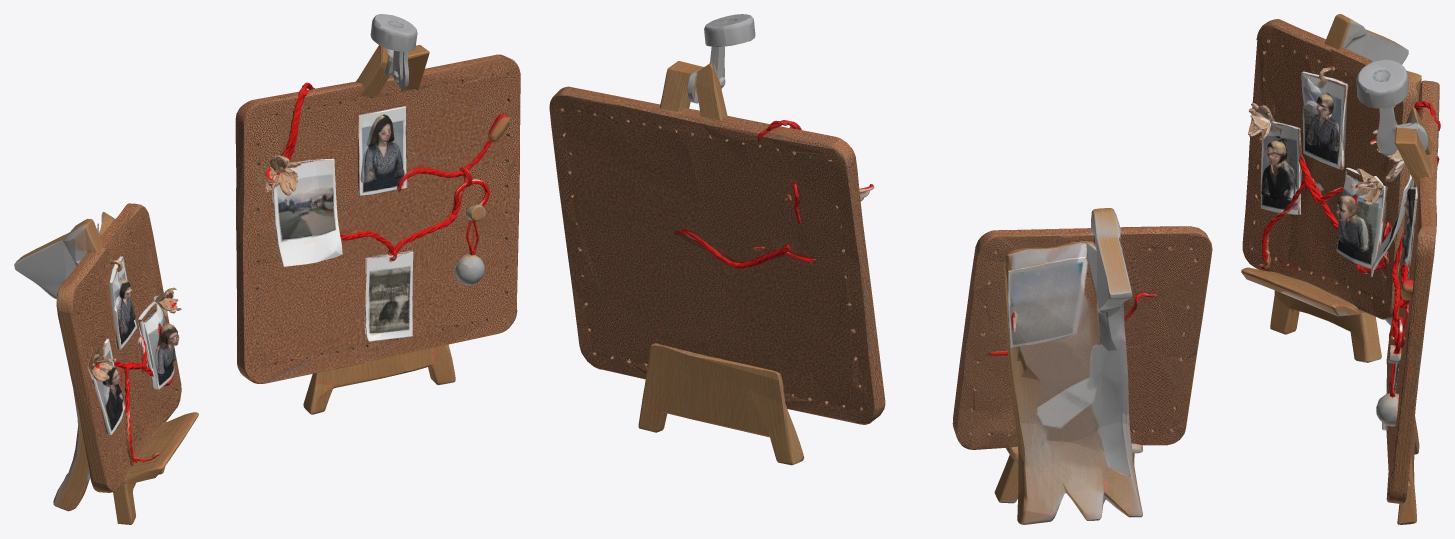
File: ws_bug.glb
3 renders of one model, left to right at view 1: azimuth 30°, elevation 25°; view 2: azimuth 150°, elevation 25°; view 3: azimuth 270°, elevation 25°, orthographic. The views are drawn at different scales.
Bounding box in the file's own units: 1.9 × 1.34 × 0.5656.
Materials: 1 (1 with a texture image).
